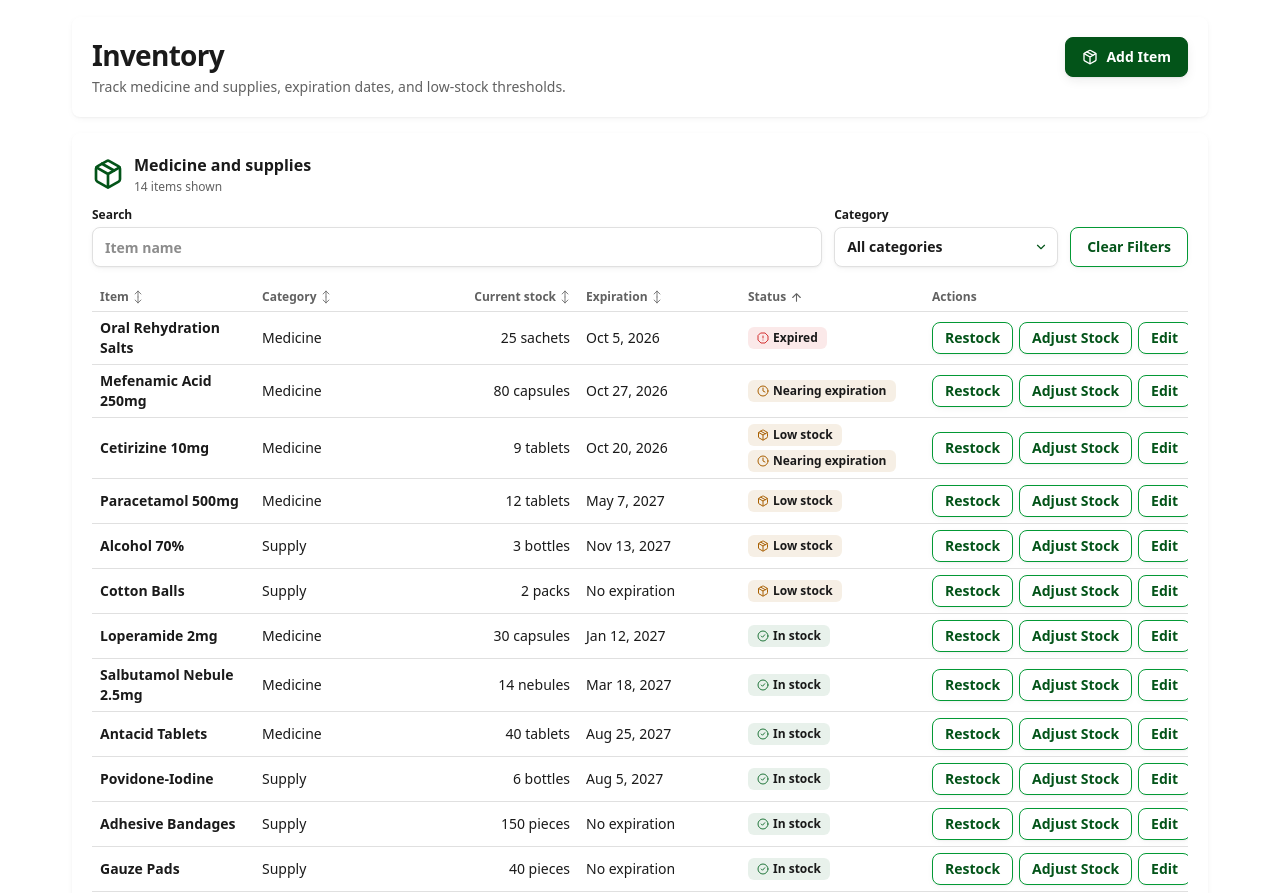
it: Restock and Edit Item › restocks from the list
Click the button with aria-label "Restock Gauze Pads" at (973, 869), box [932,853,1013,885]
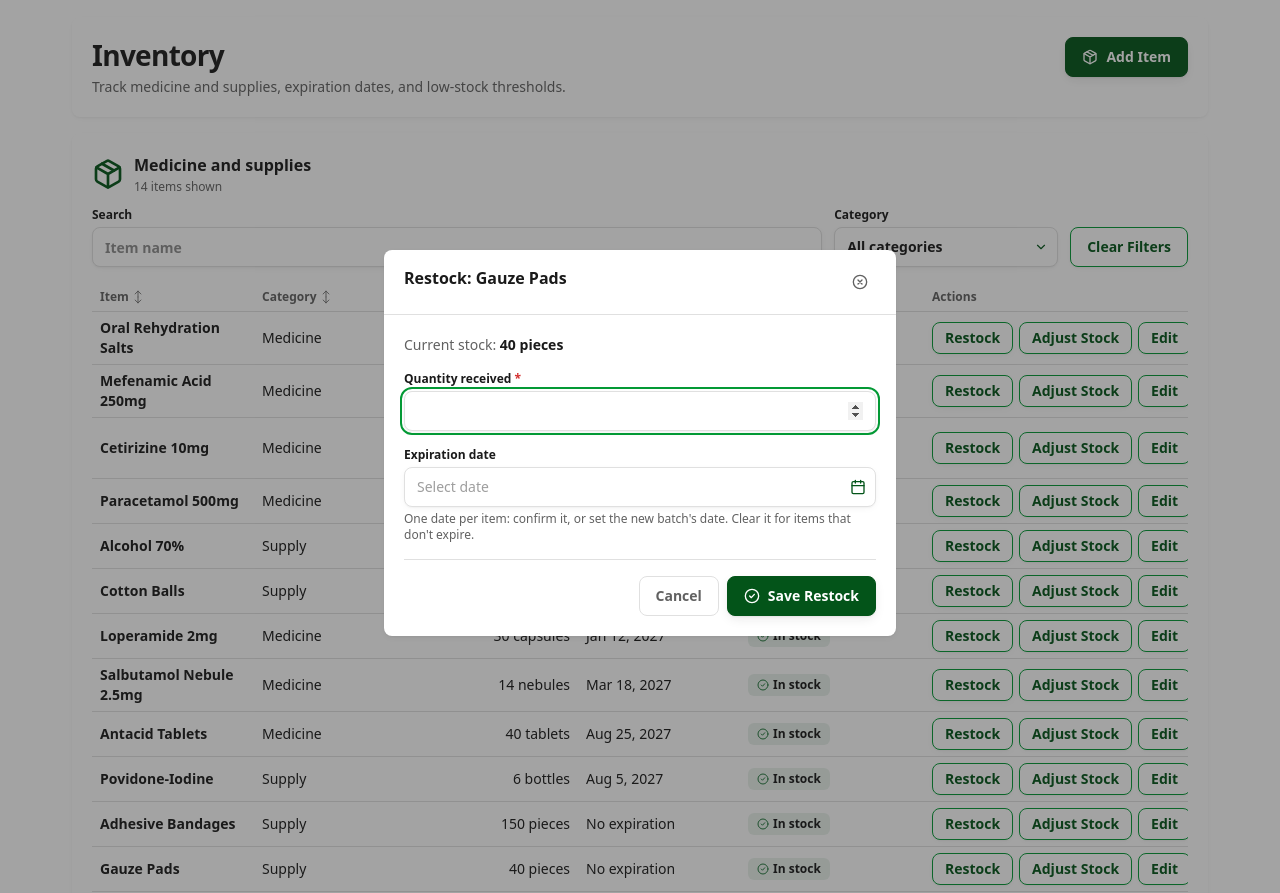
Type "10" into the number field labelled "Quantity received *" at (640, 411), box [404,391,876,431]
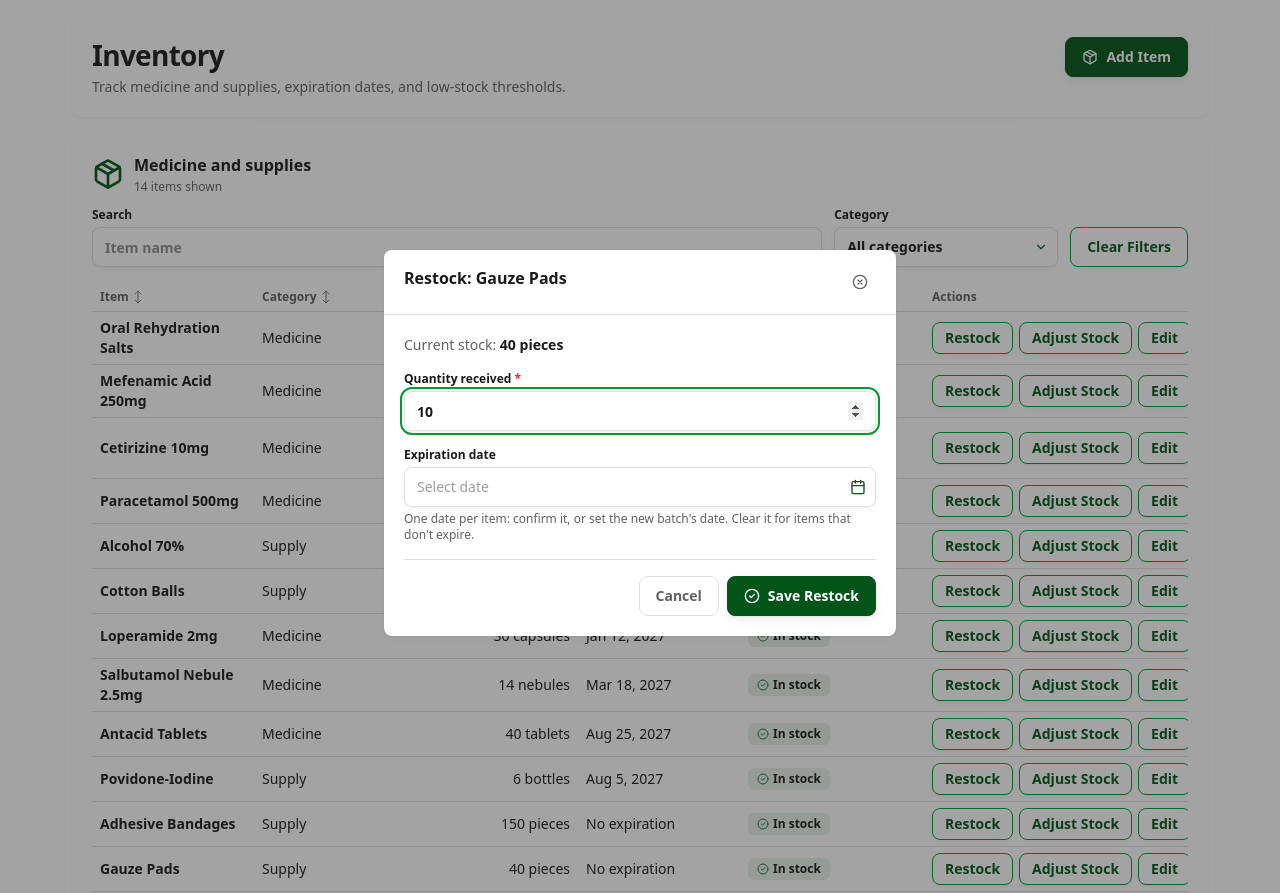
Click the button "Save Restock" at (801, 596), box [727,576,876,616]
(page scrolled)
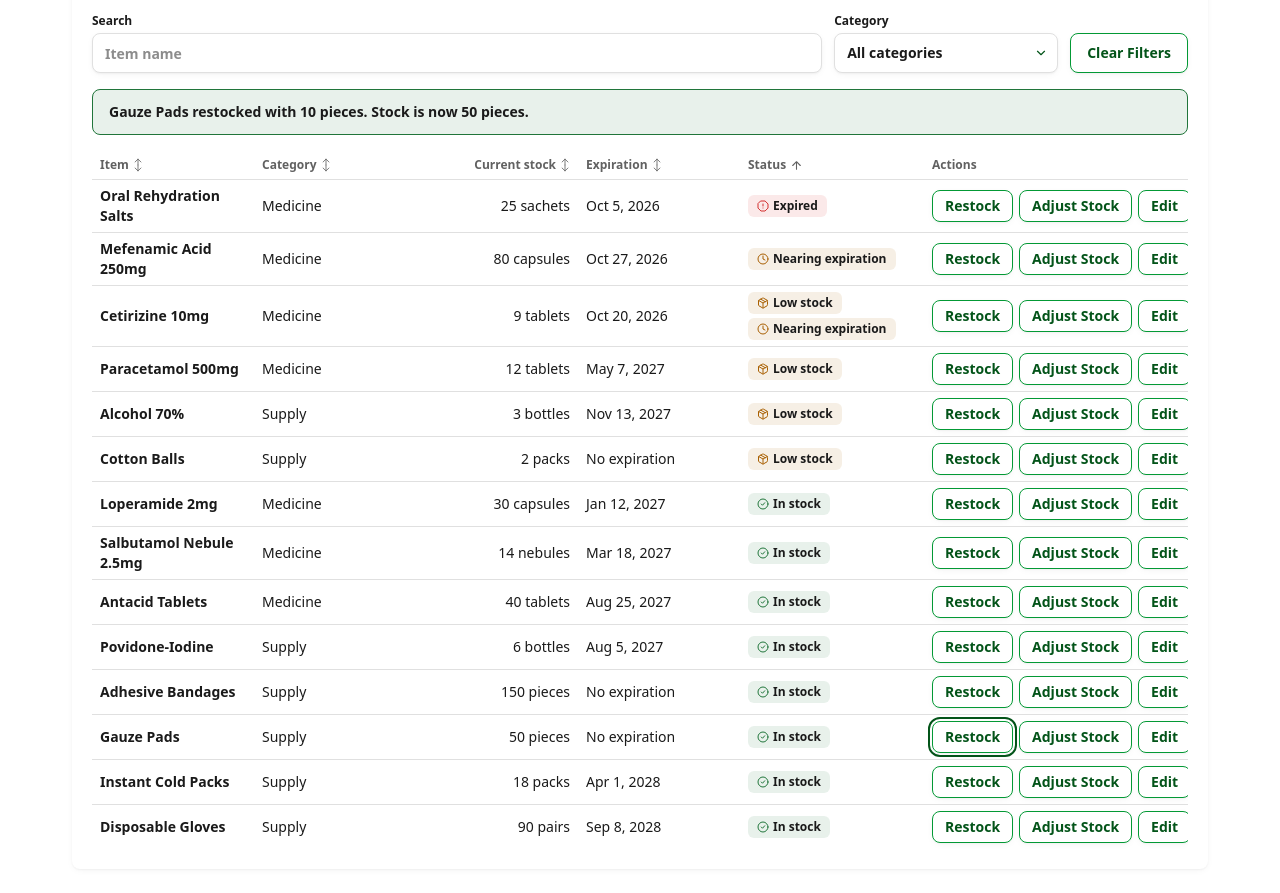
Now the text "Gauze Pads restocked with 10 pieces. Stock is now 50 pieces." is shown, box [92,89,1188,135]
